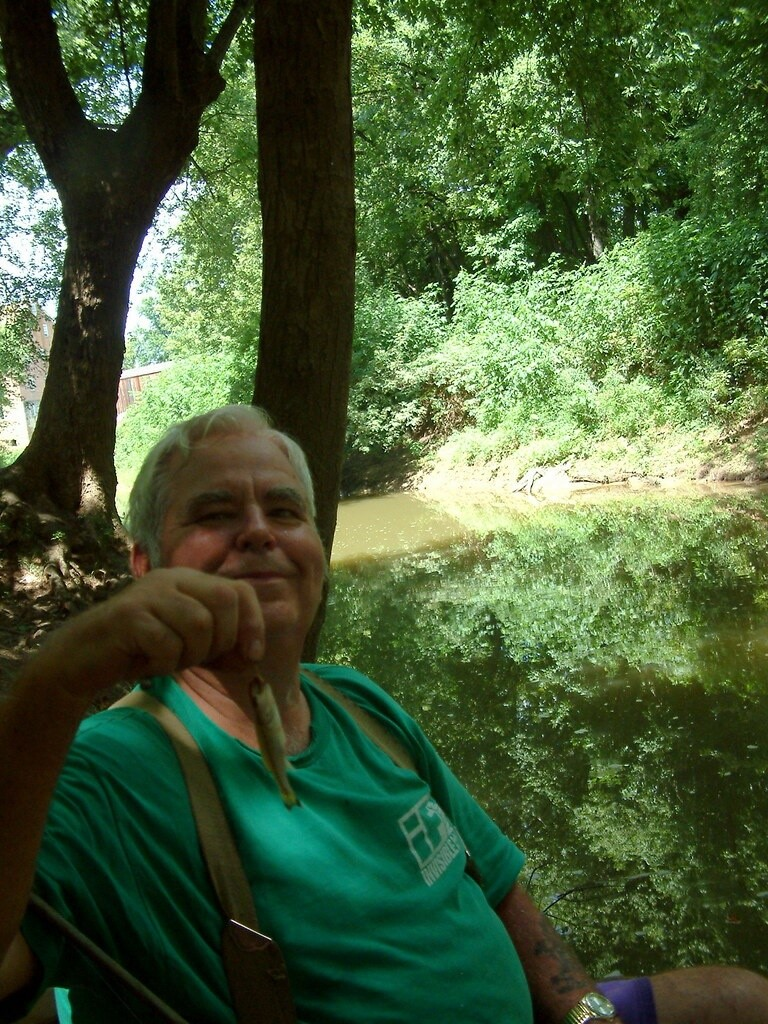face_no_mask: (133, 416, 330, 670)
